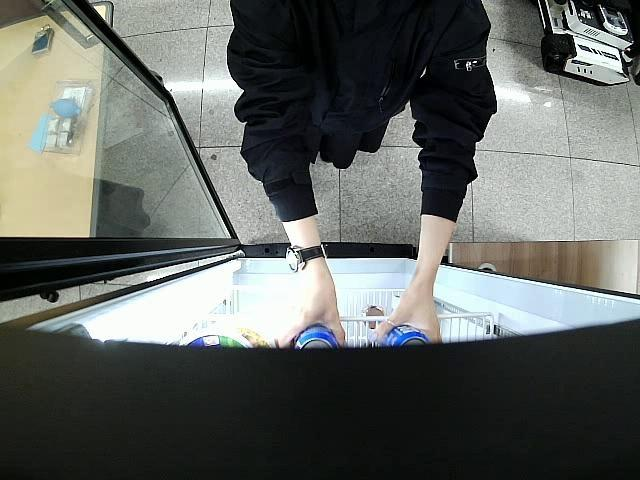13_pocariSweat: (378, 322, 433, 348), (296, 323, 340, 354)
